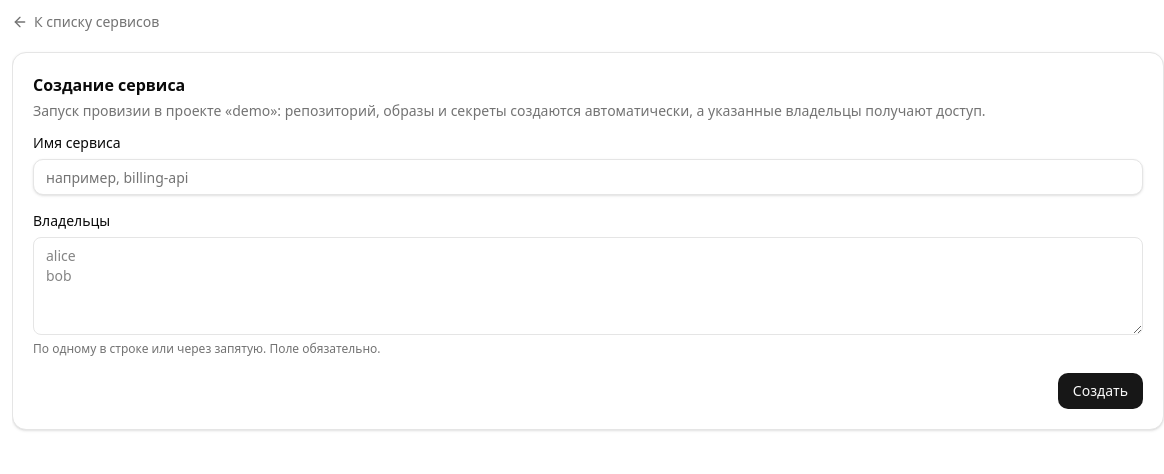
Test: CreateServicePage › пустое имя → клиентская валидация, запрос не уходит
The image size is (1164, 474).
In the text box labelled "Владельцы": (588, 286) 33,237 -> 1143,335, type "alice"
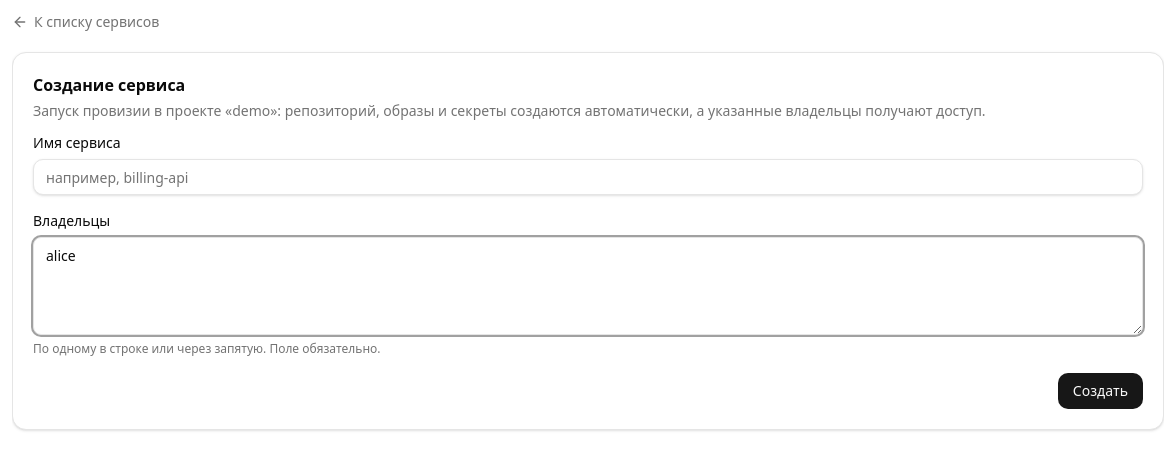
Click the button "Создать": (1100, 391) 1058,373 -> 1143,409
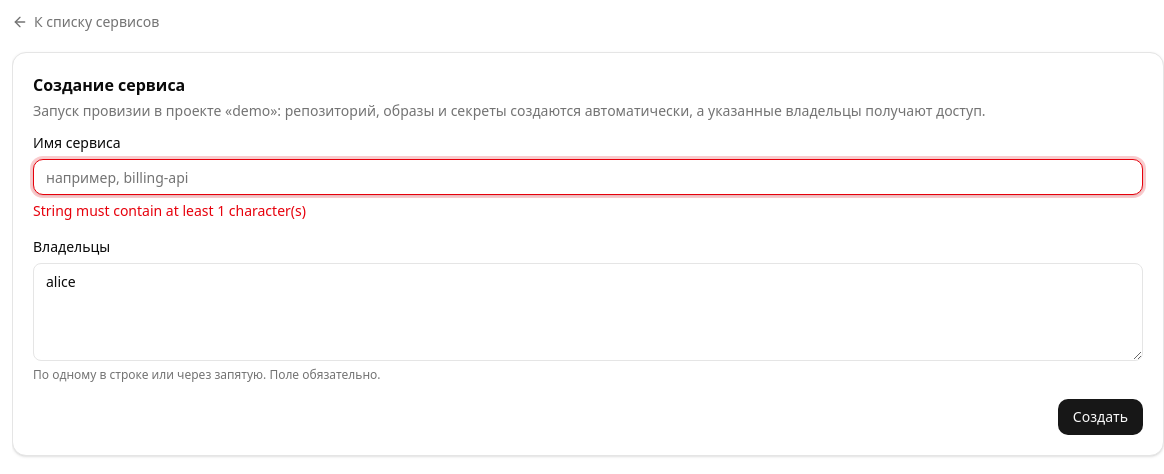
Result: the text "String must contain at least 1 character(s)" is shown at 33,201 -> 306,220
